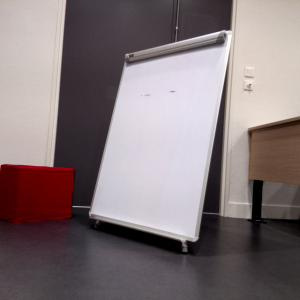big: (92, 32, 231, 249)
medium: (1, 164, 73, 223)
